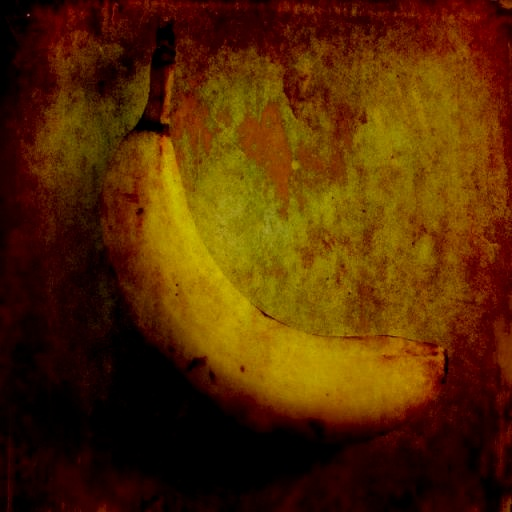fruit: (102, 27, 446, 444)
